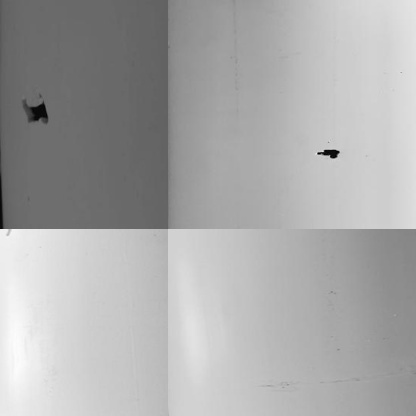kongdong: (19, 97, 53, 127), (313, 146, 342, 161)
